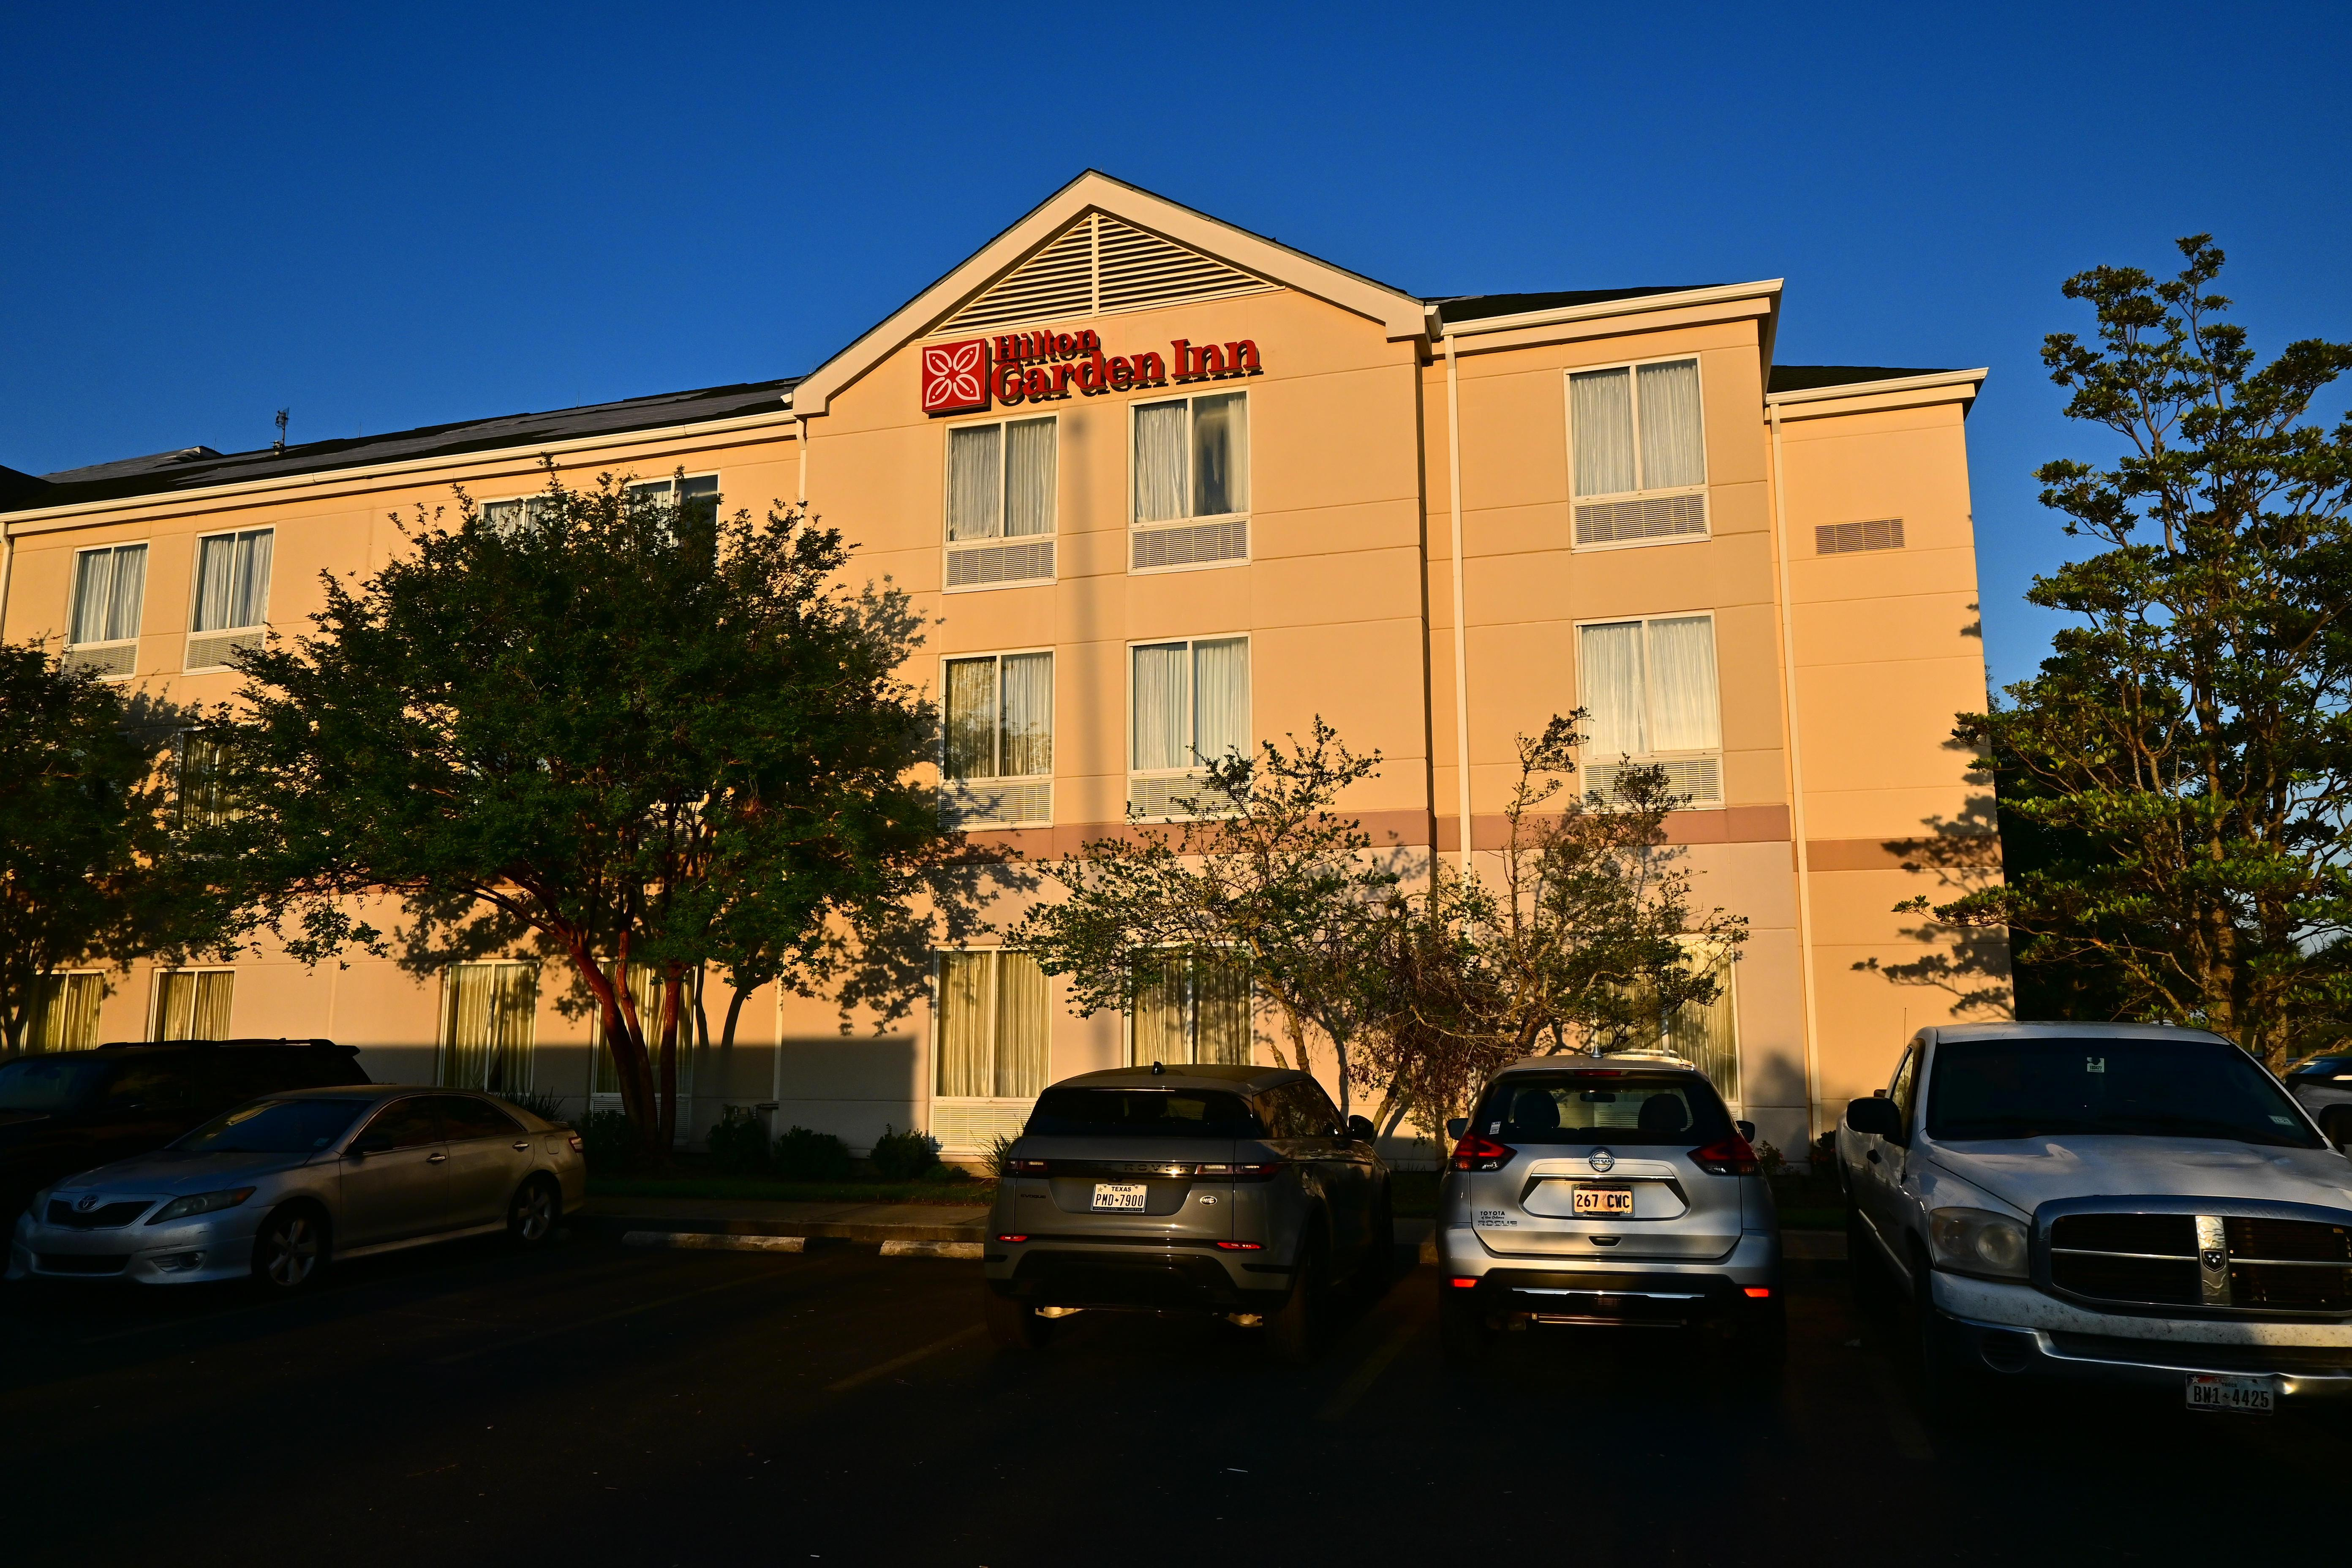affected: (53, 212, 2149, 1166)
